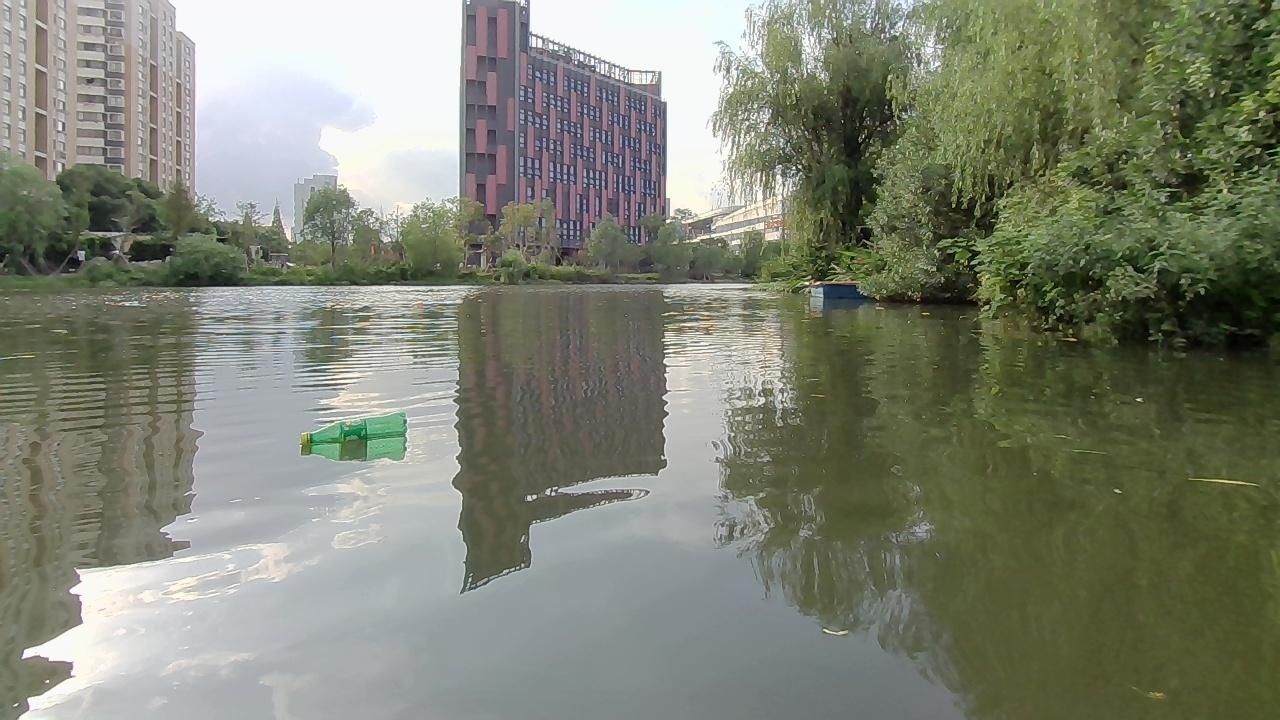bottle: (296, 412, 411, 452)
